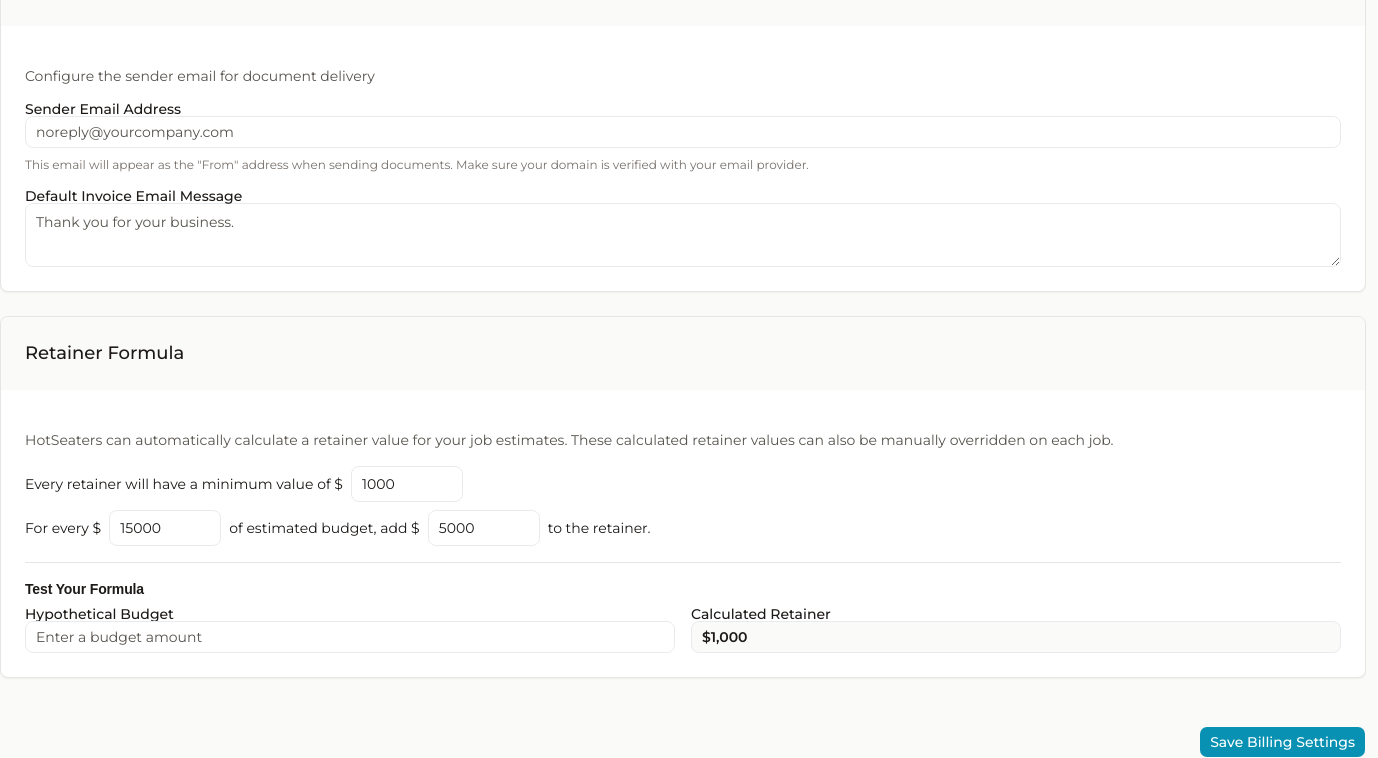
BillingSettingsTab › retainer calculator updates live when the budget changes
This screenshot has width=1378, height=758.
(page scrolled)
Check: the field labelled "Calculated Retainer" holds "$1,000", box [691,621,1341,653]
Type "45000" into the number field labelled "Hypothetical Budget" at (350, 637), box [25,621,675,653]
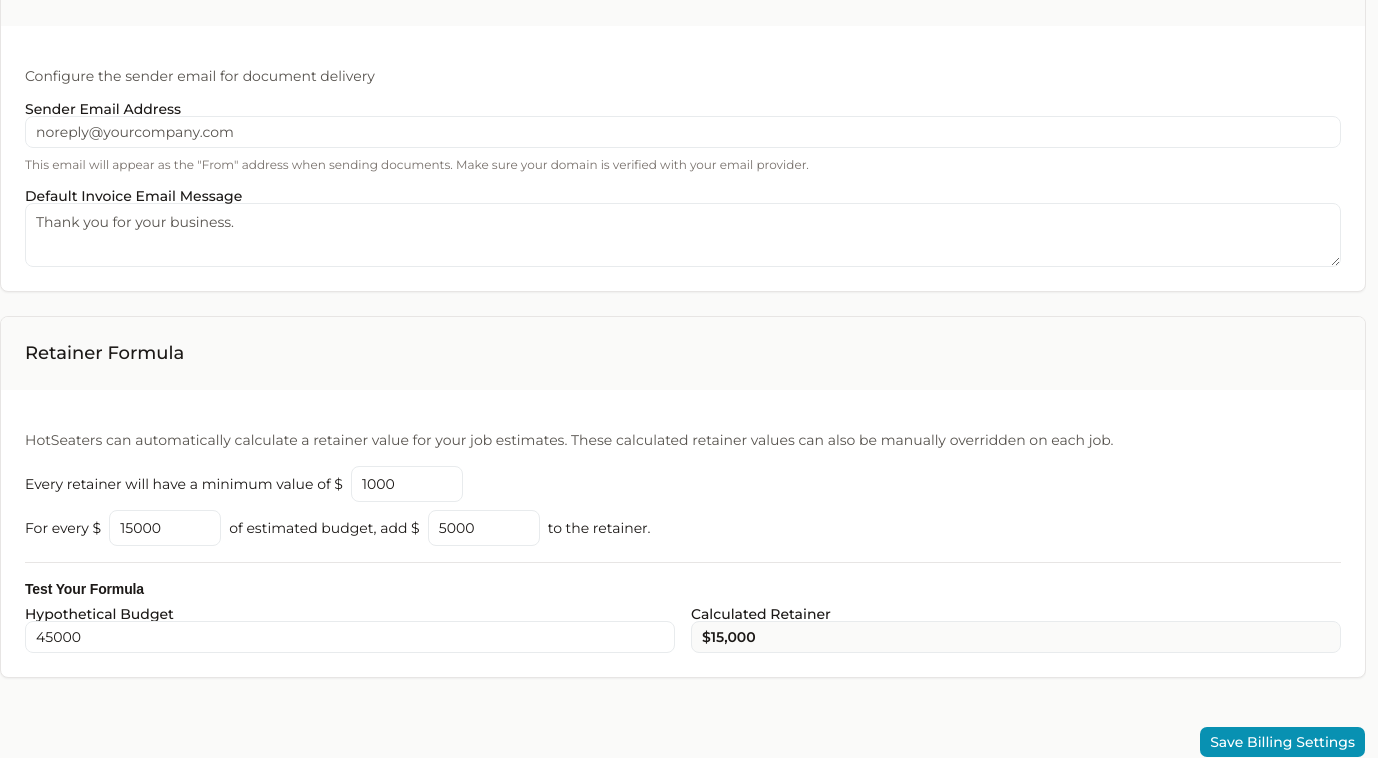
Check: the field labelled "Calculated Retainer" holds "$15,000", box [691,621,1341,653]
